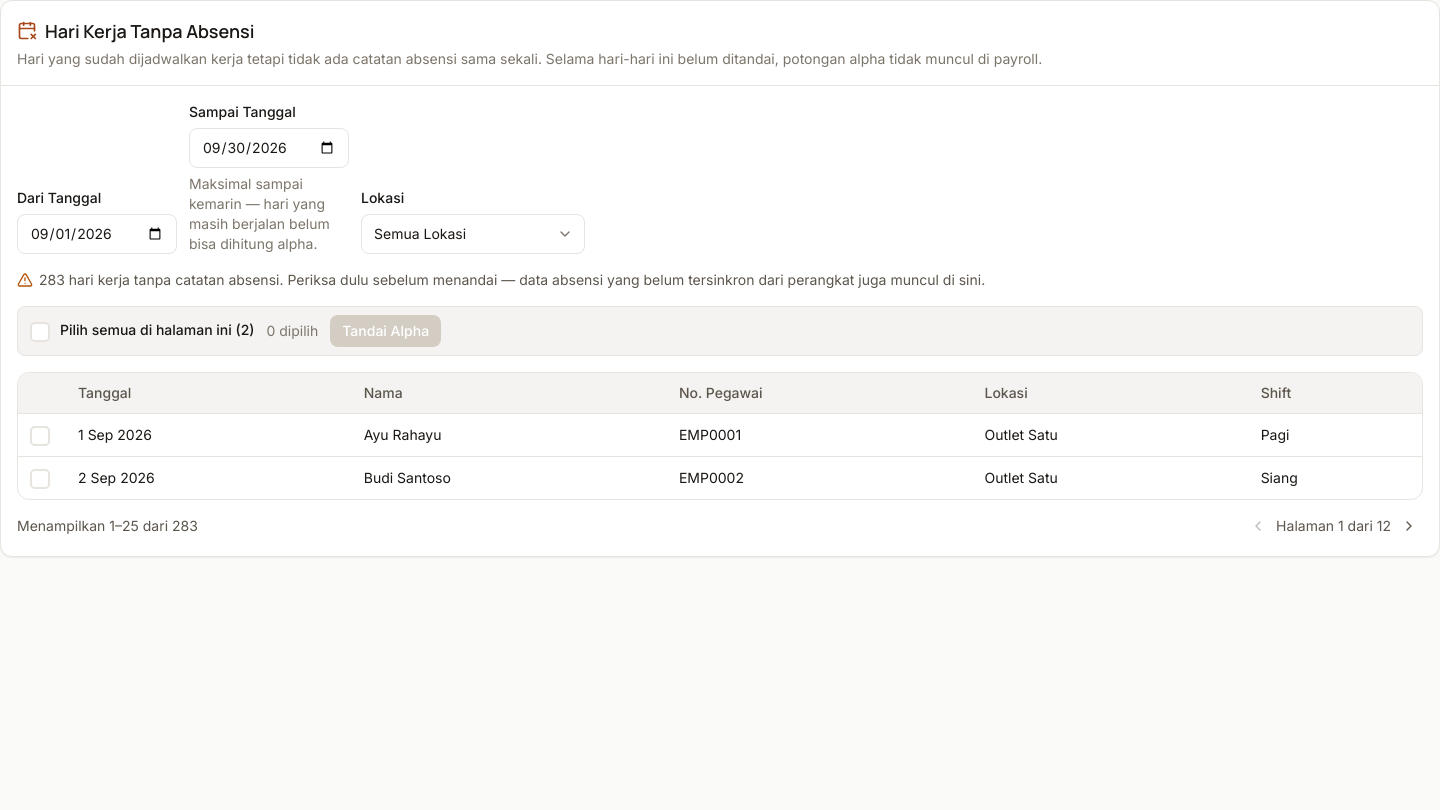
NoShowWorklist › select-all covers only the rows on screen, never the whole unseen total
Click the 1st checkbox labelled "Pilih semua di halaman ini (2)" at (142, 331), box [30, 320, 254, 342]
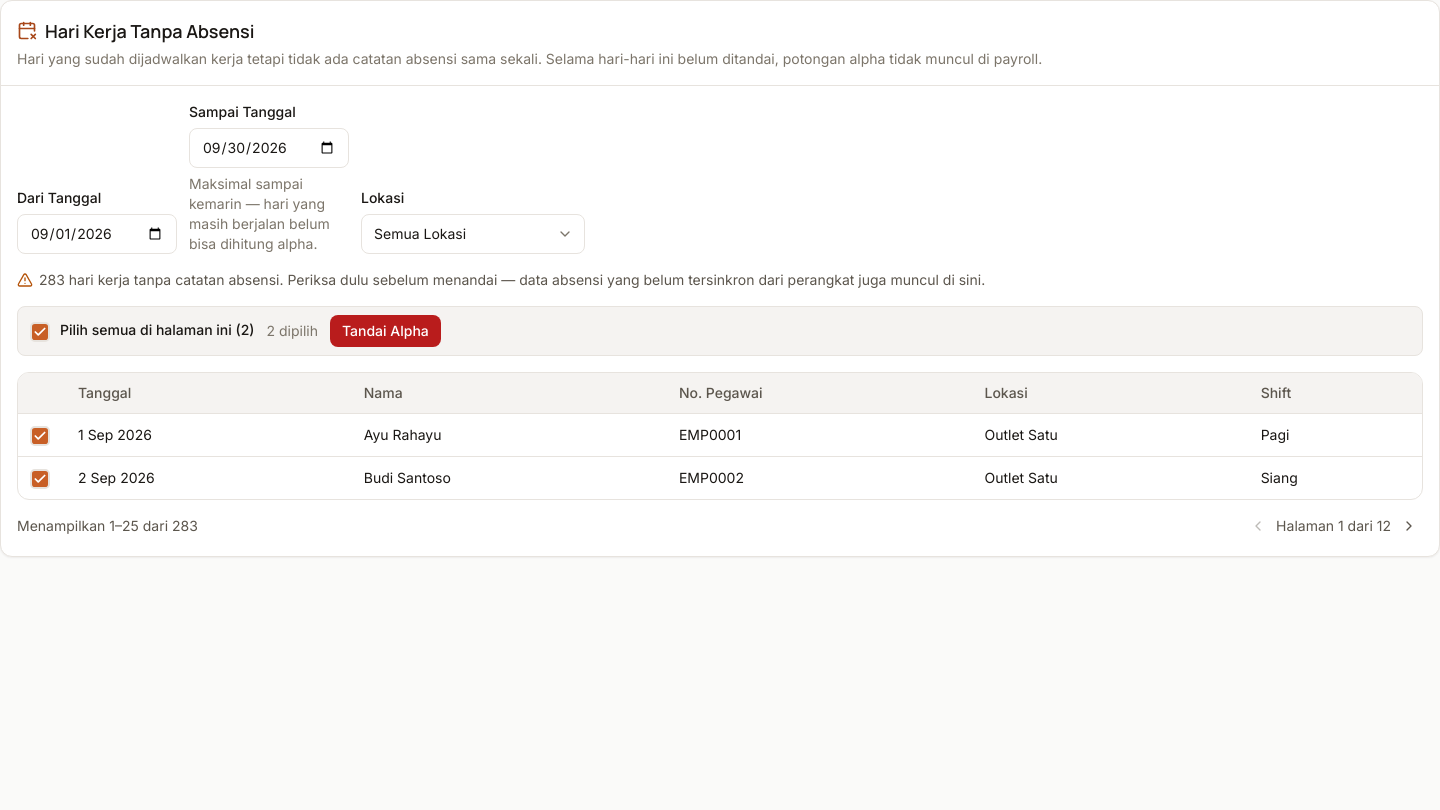
Expected: the text "2 dipilih" is shown, [266, 321, 318, 341]
// And it toggles back off rather than only ever selecting.
Click the 1st checkbox labelled "Pilih semua di halaman ini (2)" at (142, 331), box [30, 320, 254, 342]
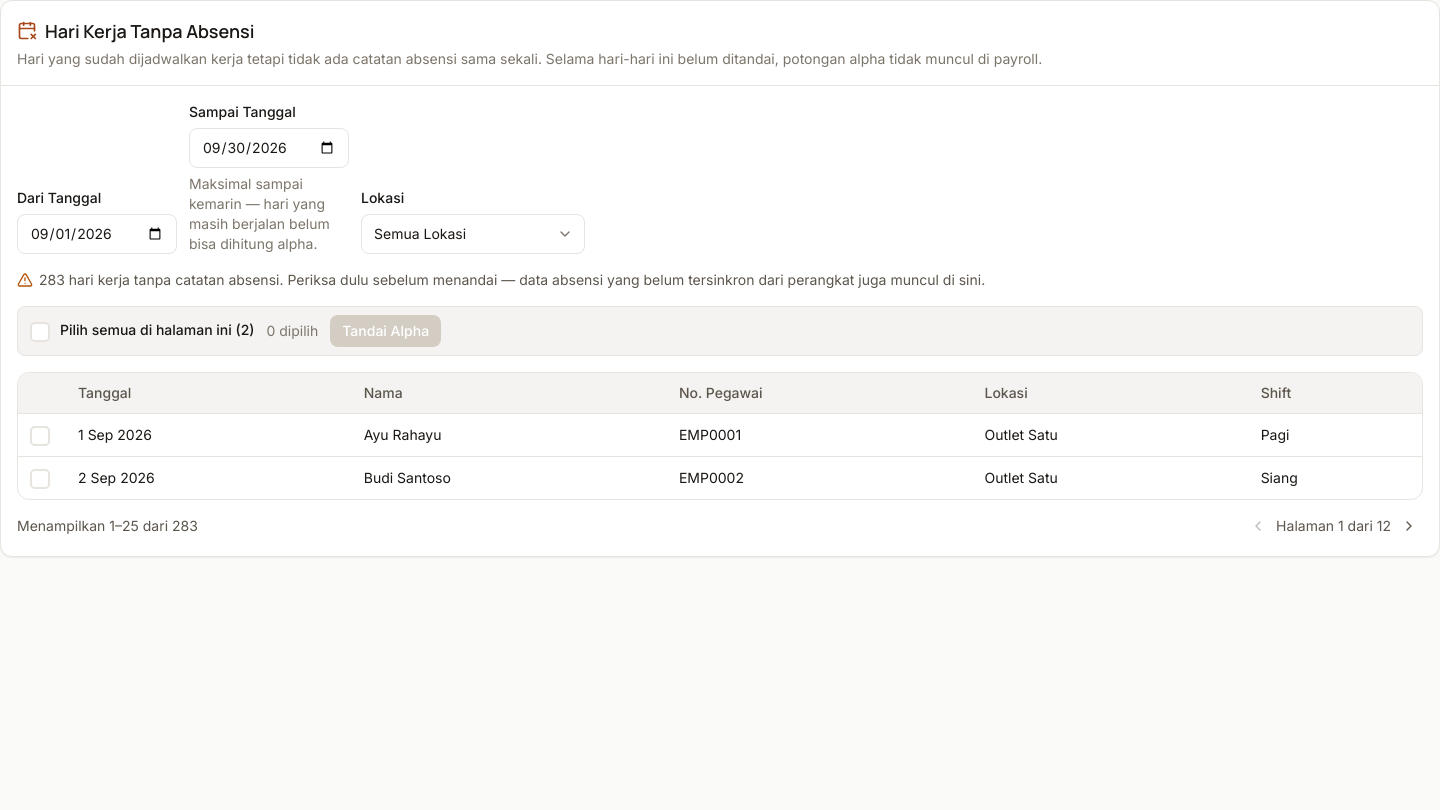
Expected: the text "0 dipilih" is shown, [266, 321, 318, 341]
